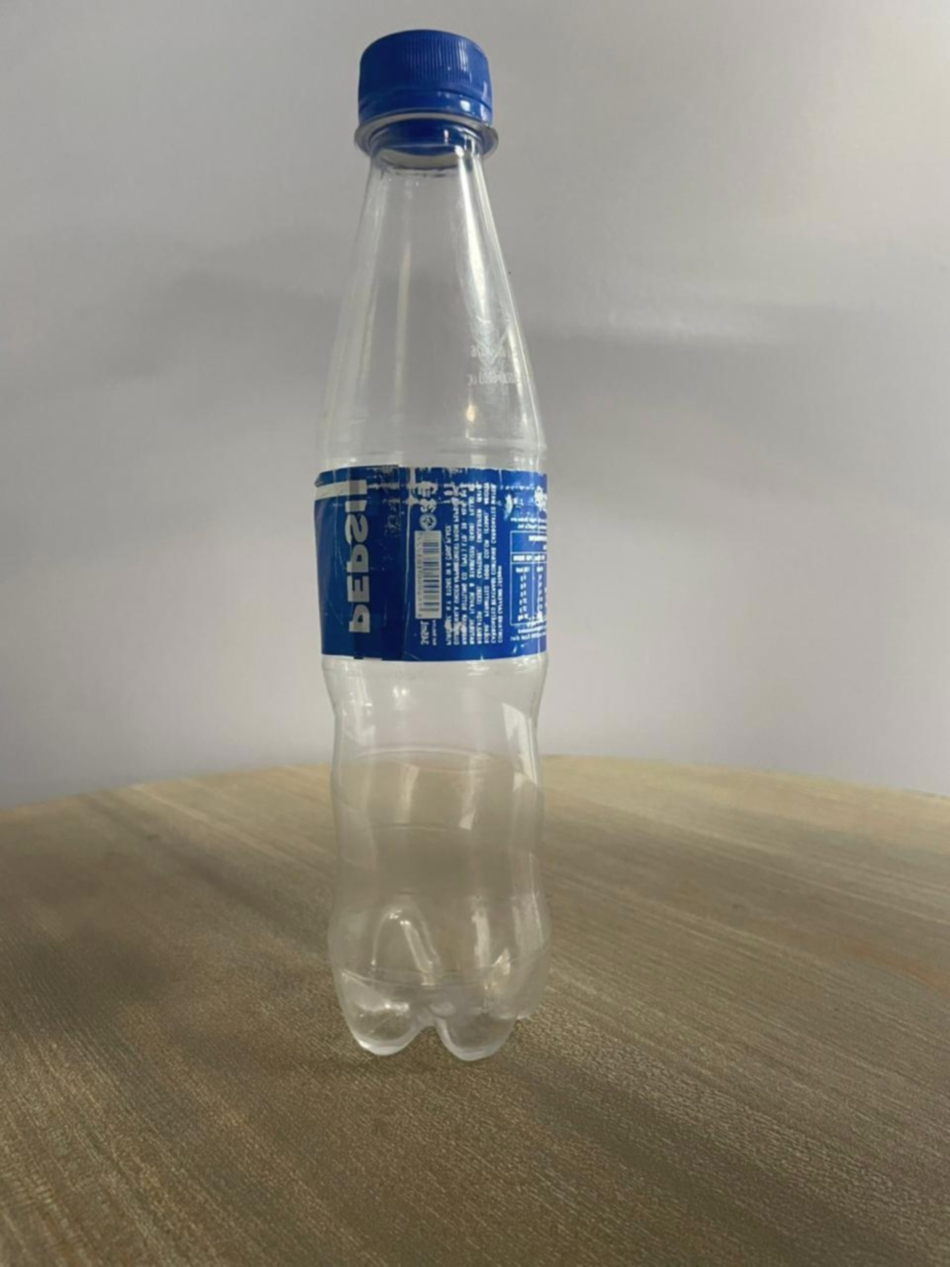Pepsi Bottle: (293, 20, 562, 1081), (299, 20, 564, 1077)
